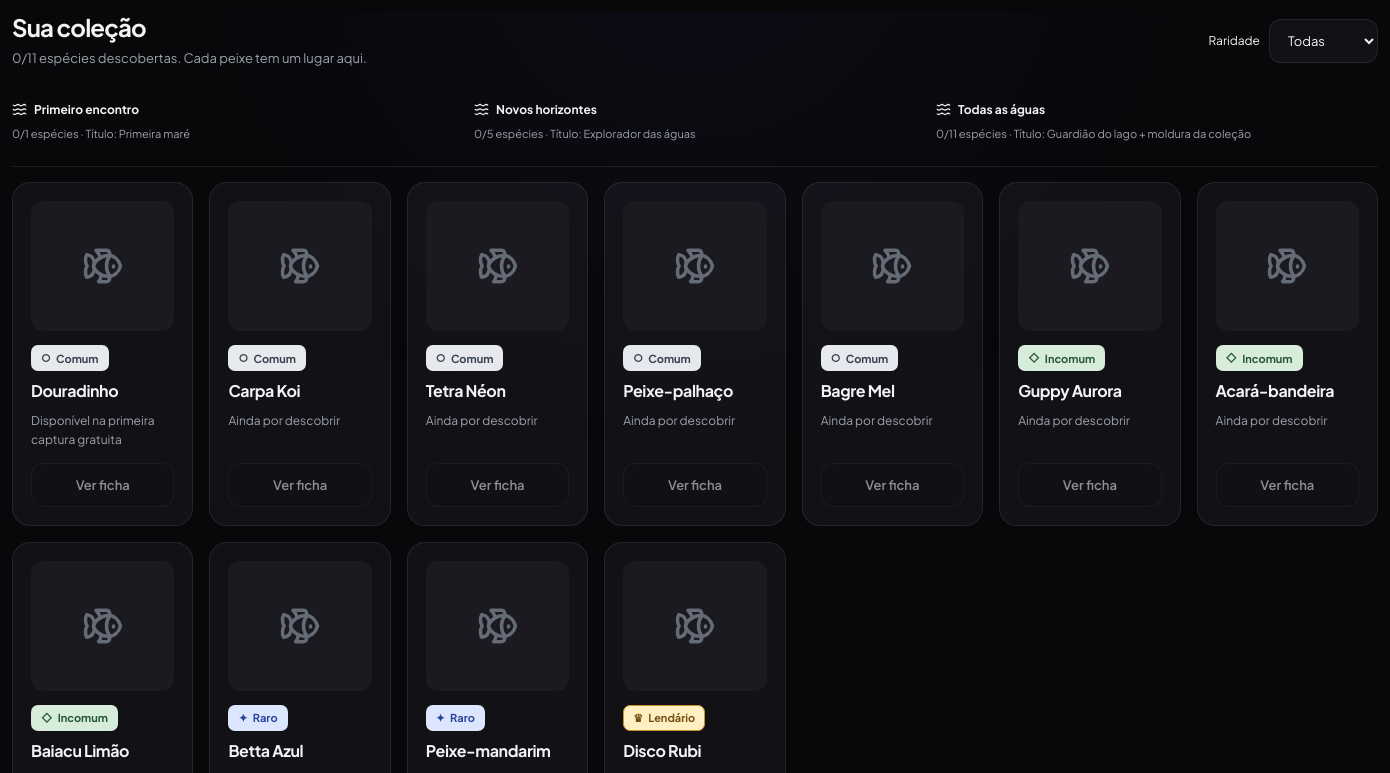
aquatic interface connected to real local capture actions › filters rarity and keeps undiscovered species unavailable for equipment
The width and height of the screenshot is (1390, 773).
Select "Lendário" in the dropdown labelled "Raridade" at (1324, 41), box top-left (1269, 19), bottom-right (1378, 63)
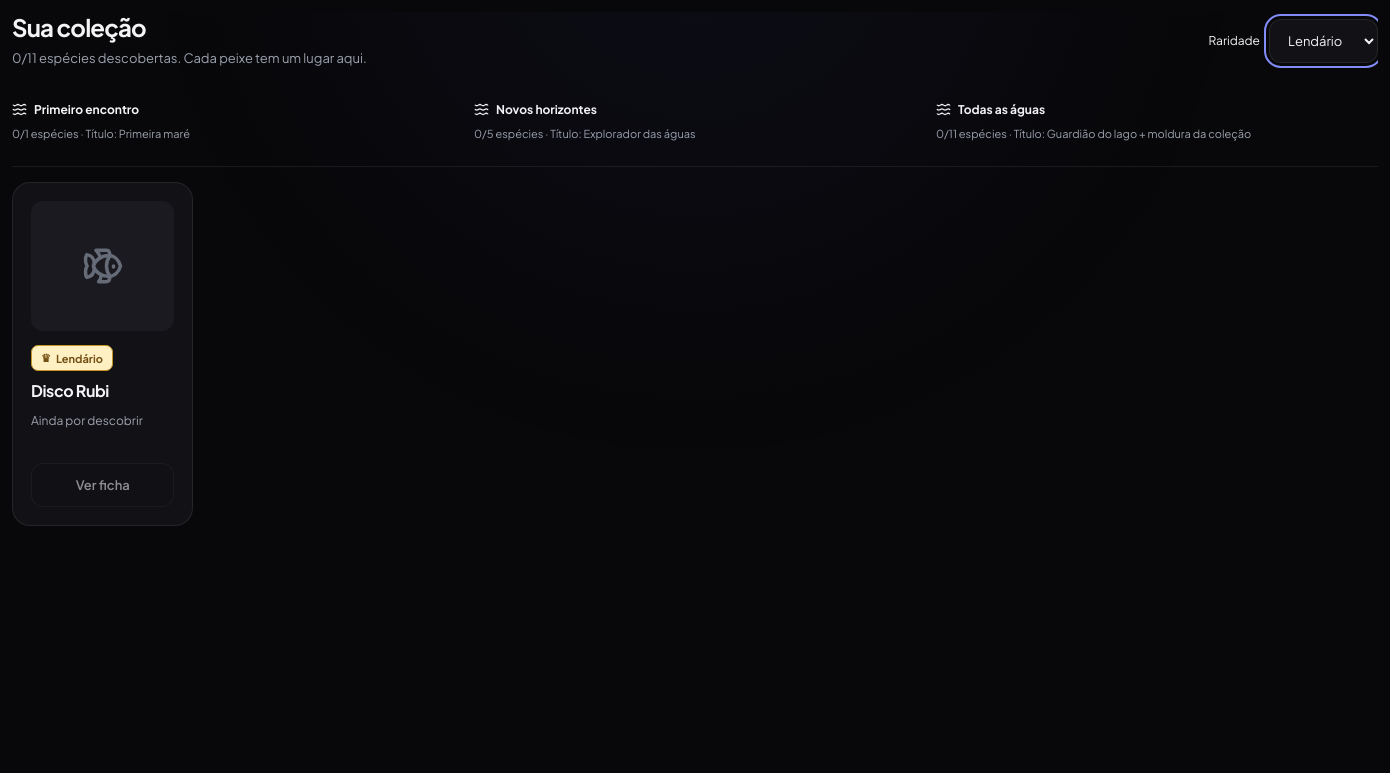
Expected: the heading "Disco Rubi" is shown, top-left (31, 380), bottom-right (109, 401)
Expected: the heading "Betta Azul" is gone
